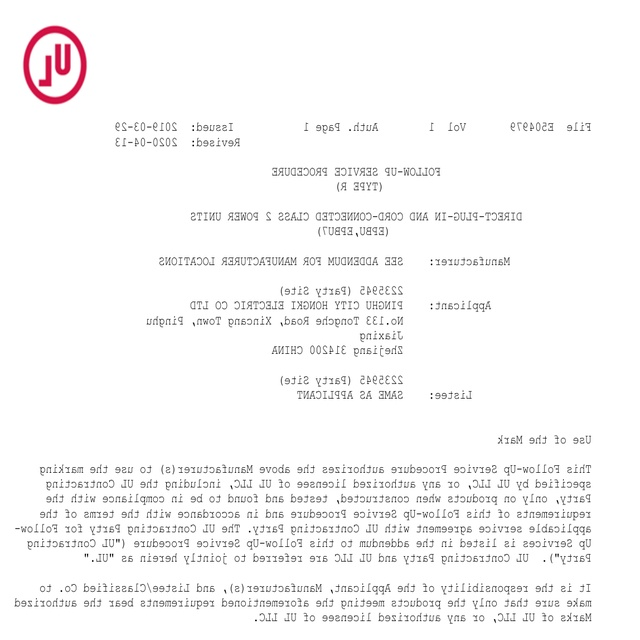ul: (22, 23, 88, 106)
